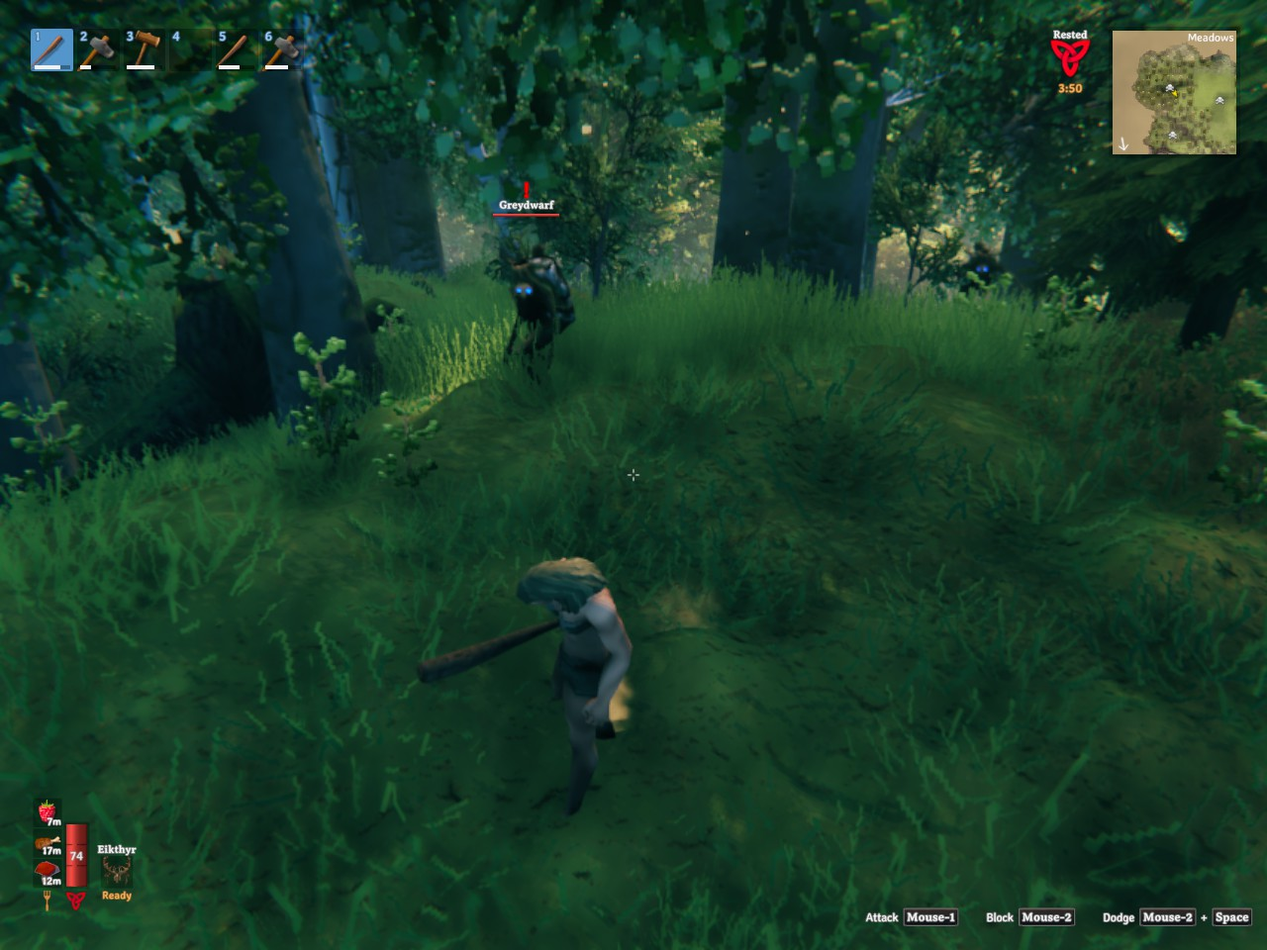Food Indicator: (36, 797, 63, 891)
Greydwarf: (505, 245, 574, 377), (959, 241, 1005, 292)
Health Bar: (63, 820, 90, 891)
Hotbar: (25, 21, 398, 78)
Status Indicator: (1039, 25, 1106, 101)
